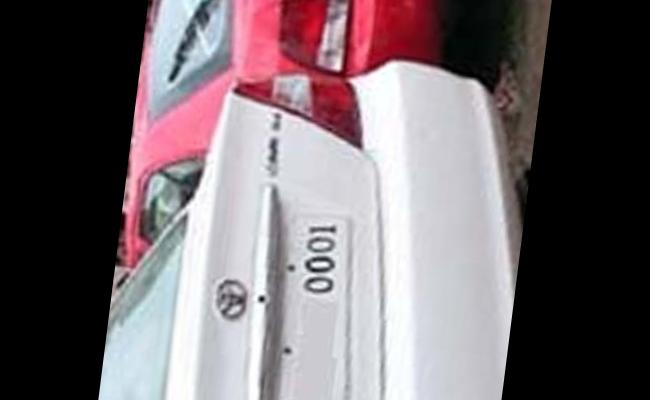plate: (272, 203, 363, 400)
